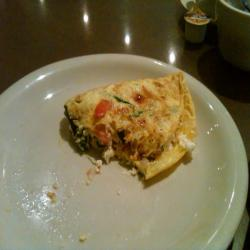omelette: (63, 67, 213, 204)
